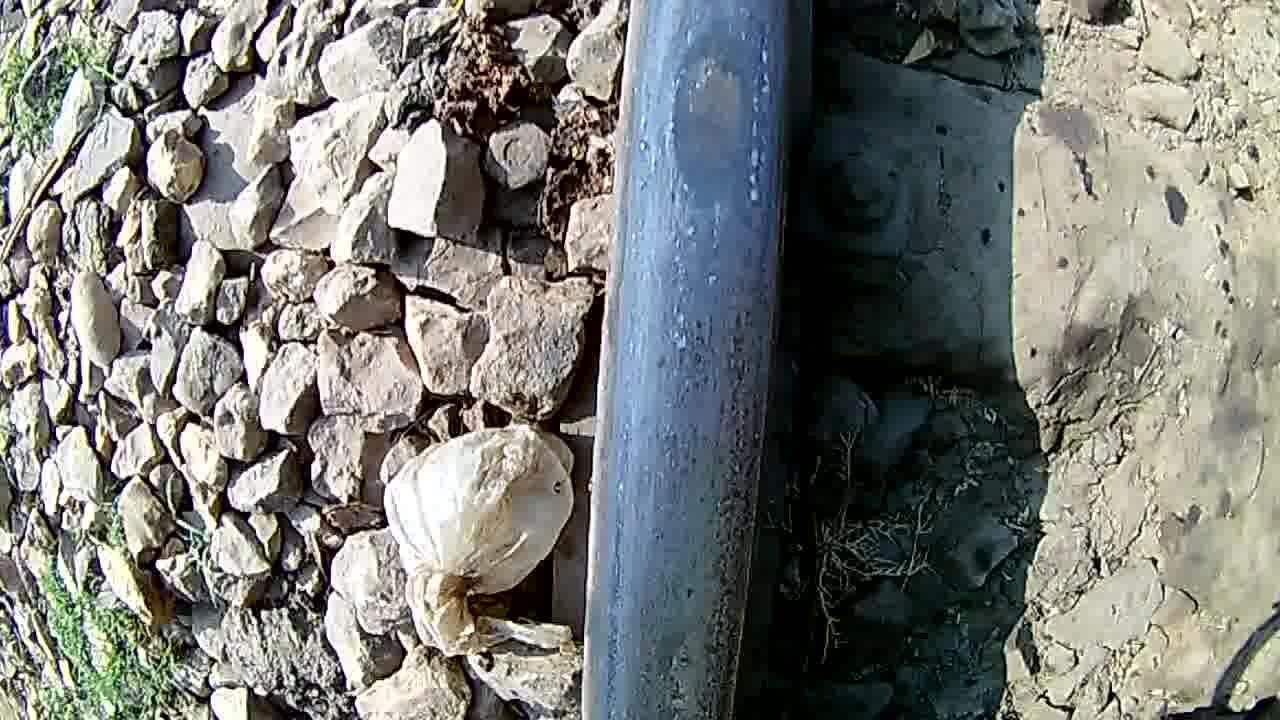crack: (598, 10, 782, 720)
